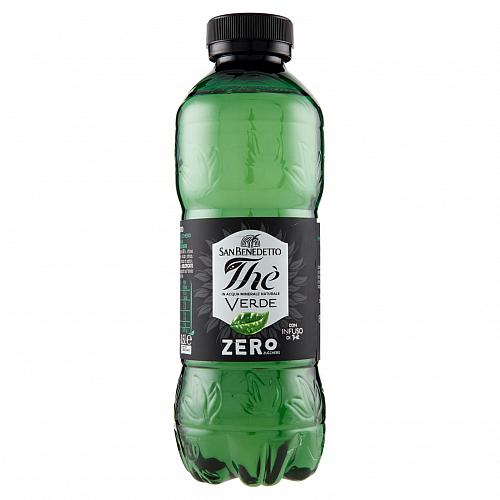PlasticBottle: (168, 9, 333, 488)
